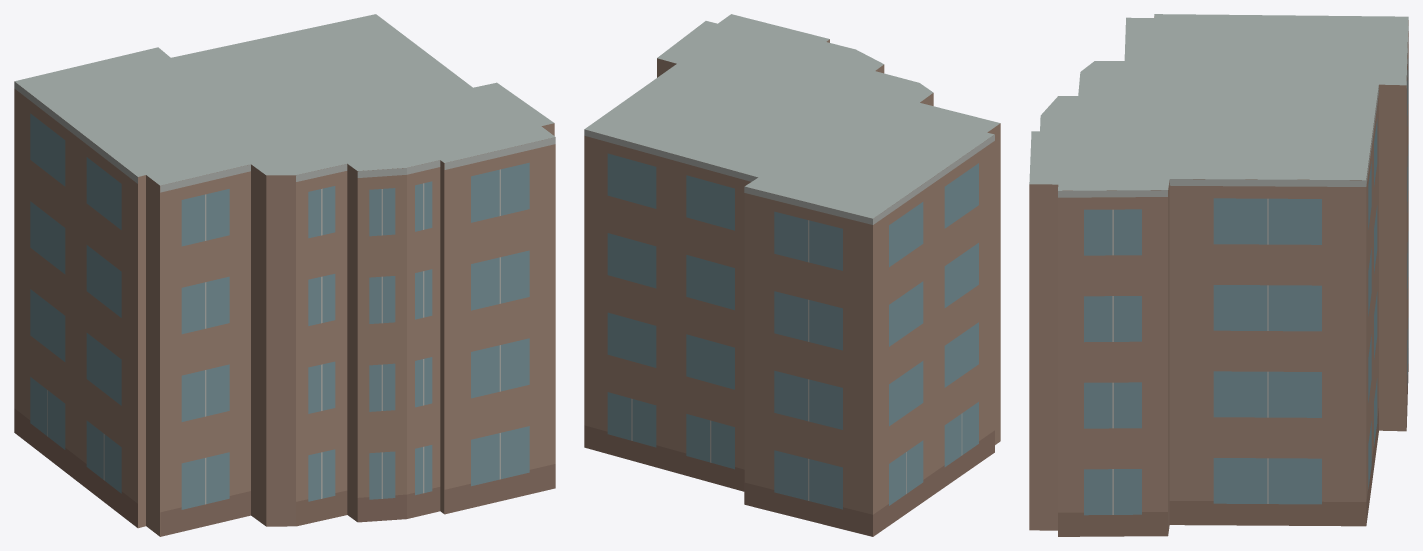
File: survey-upis-32656214.glb
3 views of the same model, side by side, from view 1: azimuth 30°, elevation 25°; view 2: azimuth 150°, elevation 25°; view 3: azimuth 270°, elevation 25° (orthographic). The views are drawn at different scales.
Visible parts, largest first — view 1: survey-upis-32656214.tmp; view 2: survey-upis-32656214.tmp; view 3: survey-upis-32656214.tmp.
Part boxes in pixels (x1,y1,x2,y2): survey-upis-32656214.tmp: [14, 14, 555, 536]; survey-upis-32656214.tmp: [584, 14, 1000, 536]; survey-upis-32656214.tmp: [1029, 14, 1408, 536].
Bounding box in the file's own units: 13.38 × 12.2 × 12.13.
